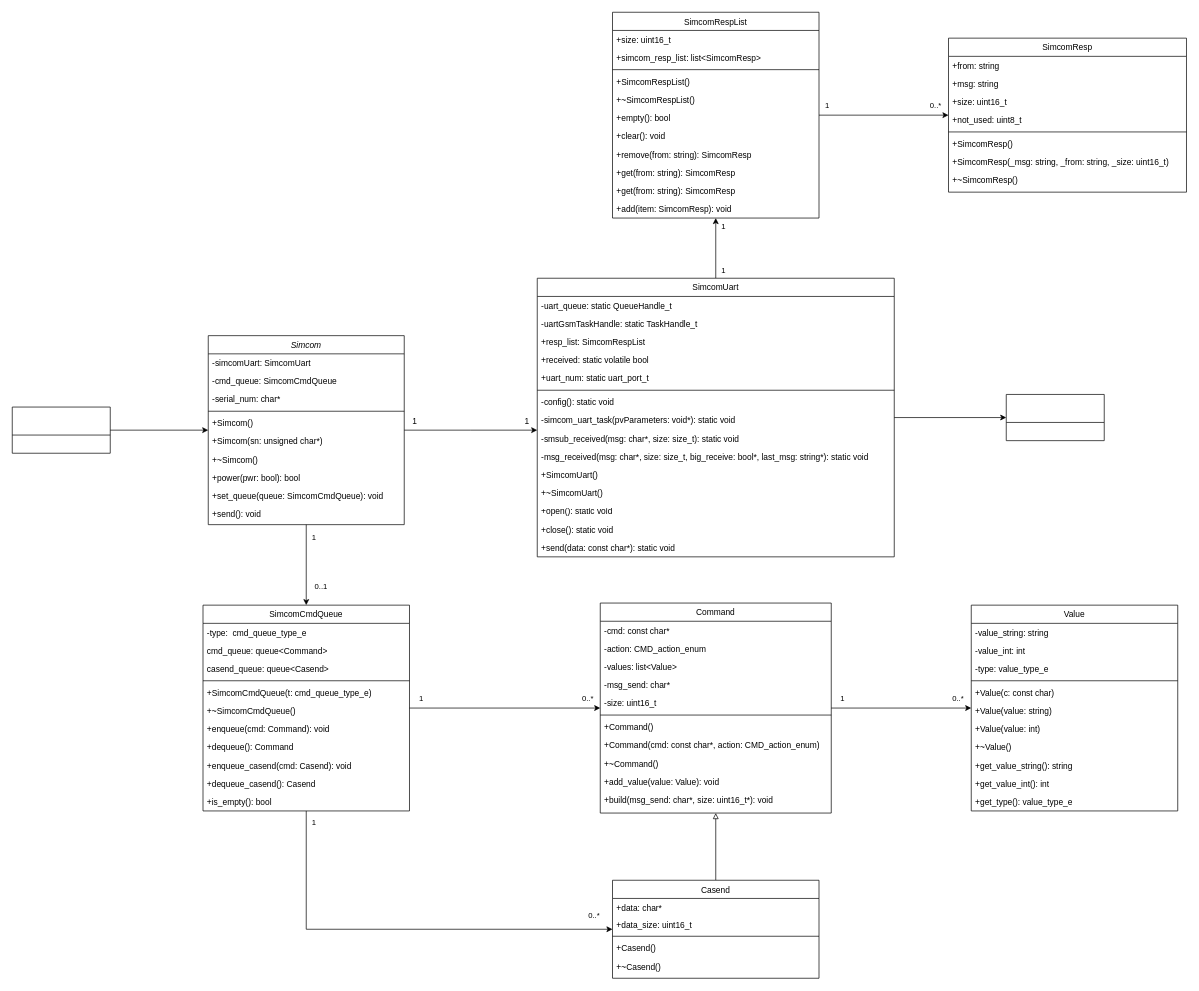
This 1199x991 diagram has some shape labels left out. The shapes that lost their labels are listed below. From the top down, each one's centre as x and y in pixels, then its label:
At point (61, 429): "main_task <<TASK>>".
At point (1055, 417): "simcom_uart_task <<TASK>>".
